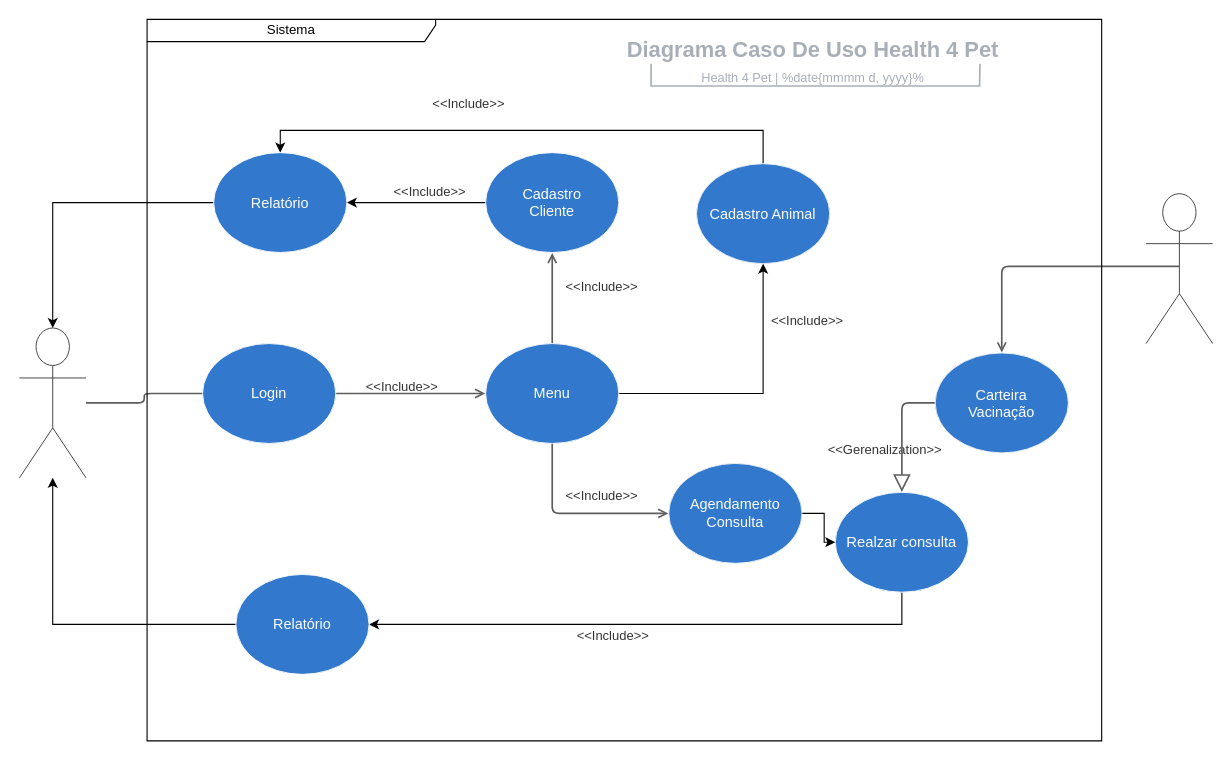
This 1232x760 diagram has some shape labels left out. The centre of each missing label's shape, as x and y in pixels:
Cliente: the point at 1179,268
Veterinario: the point at 52,402
